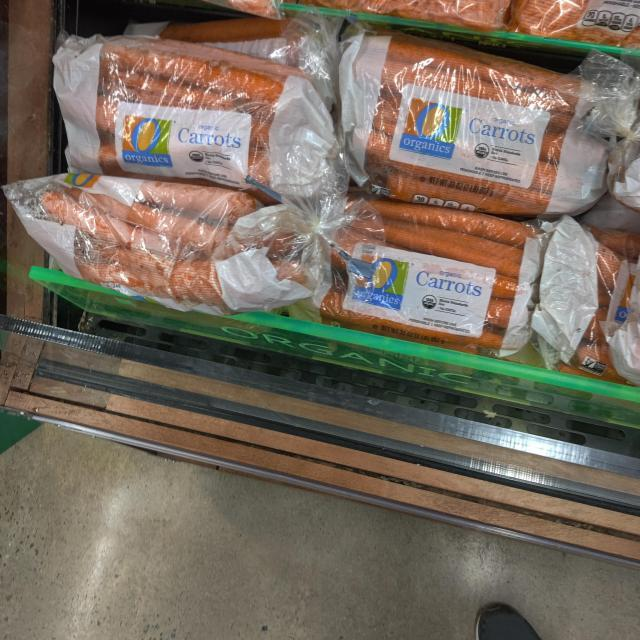Carrots: (289, 175, 601, 373), (40, 21, 355, 207), (321, 28, 609, 220), (14, 177, 330, 329)
